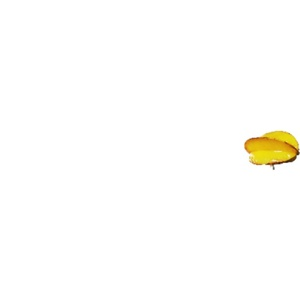carambola: (245, 131, 300, 170)
